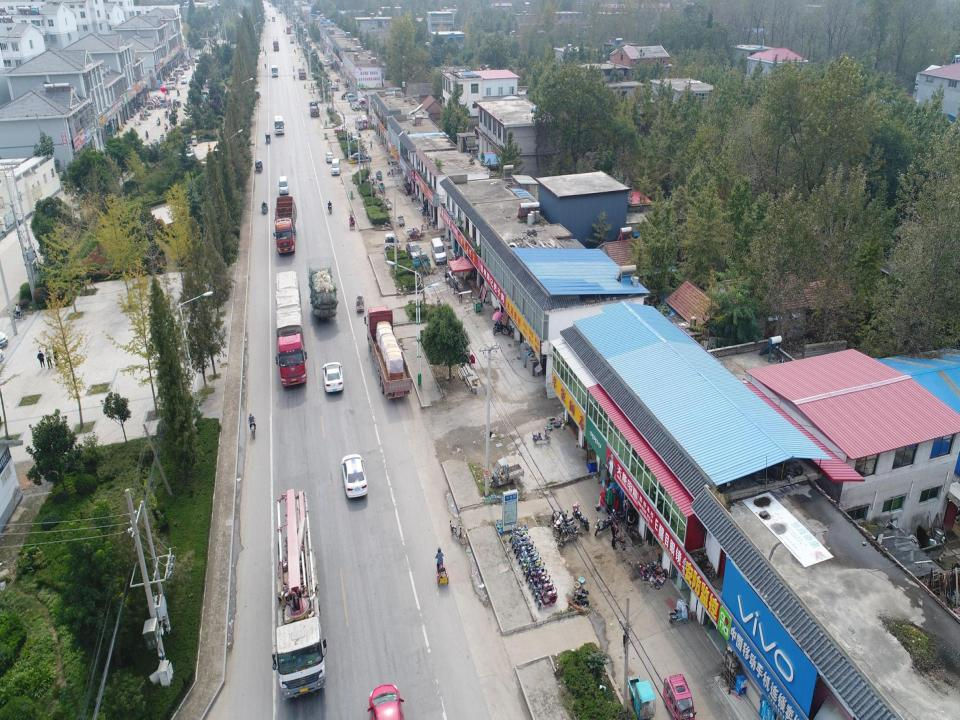bus: (273, 115, 285, 134), (270, 64, 280, 78), (272, 15, 276, 22)
car: (340, 452, 370, 502), (321, 359, 345, 394), (405, 241, 423, 262), (350, 152, 372, 164), (184, 113, 199, 125), (178, 124, 191, 136), (354, 118, 363, 130), (325, 152, 334, 162), (350, 130, 358, 140), (180, 74, 187, 84), (323, 60, 330, 66), (268, 18, 270, 22)
truck: (270, 487, 332, 701), (364, 301, 414, 402), (274, 271, 311, 387), (309, 264, 338, 322), (272, 195, 299, 256), (307, 100, 321, 118), (326, 81, 340, 91), (297, 66, 307, 80), (272, 38, 278, 52), (286, 25, 292, 34), (289, 35, 295, 43)
van: (430, 236, 448, 264), (278, 174, 289, 196), (330, 157, 342, 176), (163, 81, 177, 89), (174, 69, 184, 75)
